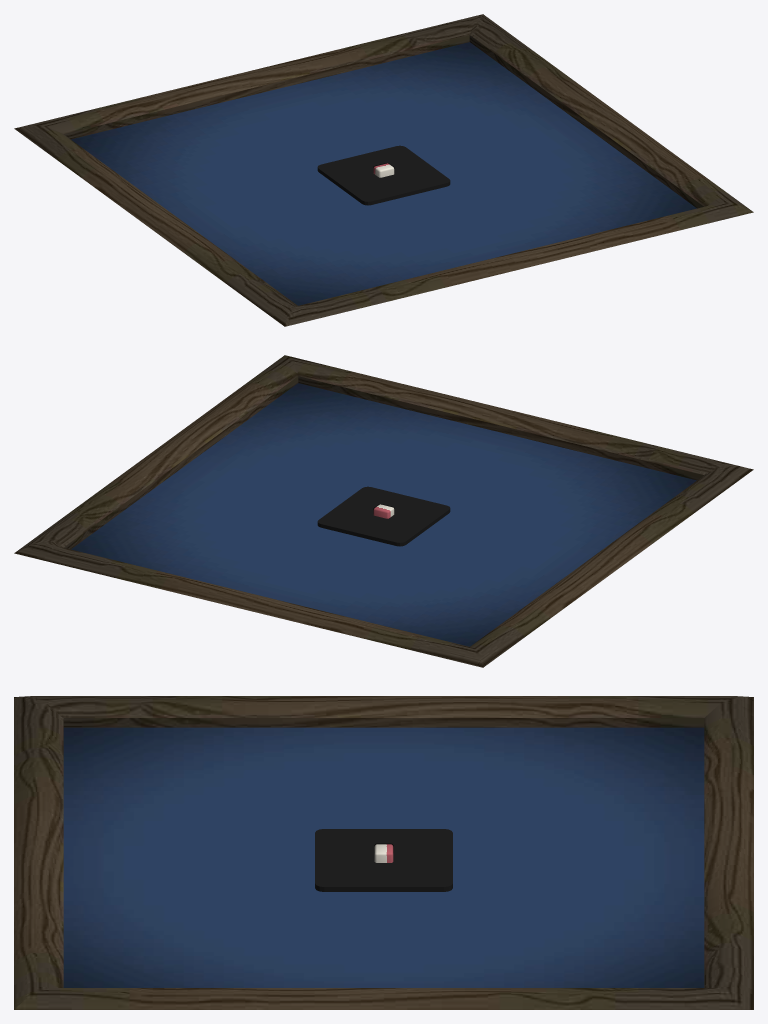
The model's file is game.glb.
3 views of the same model, one above another, from view 1: azimuth 30°, elevation 25°; view 2: azimuth 150°, elevation 25°; view 3: azimuth 270°, elevation 25° (orthographic). The views are drawn at different scales.
Visible parts, largest first — view 1: Table; view 2: Table; view 3: Table.
Part boxes in pixels (left/top/right/bottom): Table: left=14, top=14, right=753, bottom=326; Table: left=14, top=355, right=753, bottom=667; Table: left=14, top=696, right=753, bottom=1009.
Size of the model in its own units: 0.8057 by 0.0391 by 0.8057.
Materials: 4 (3 with a texture image).
